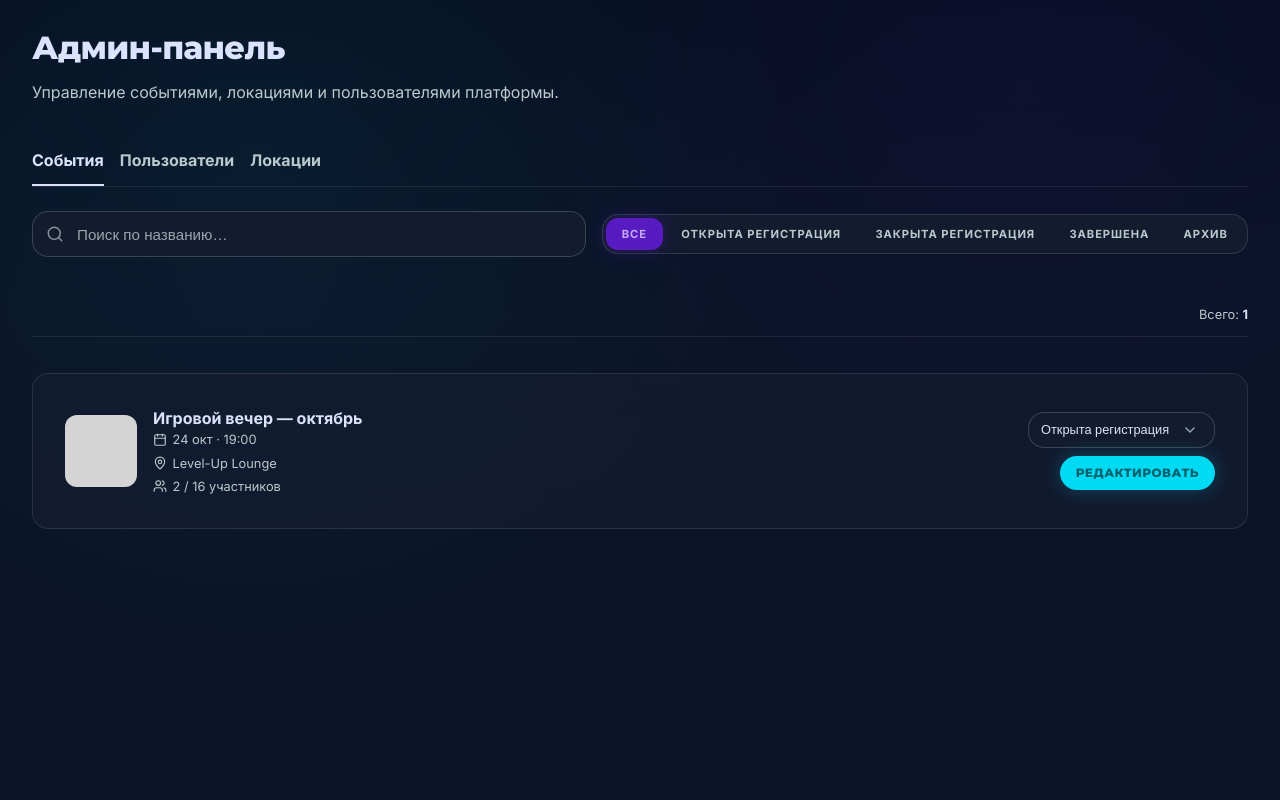
Test: CreateLocationPage › navigates from admin locations tab to create page
Click the tab "Локации".
click(286, 161)  # box 250,136 -> 321,186
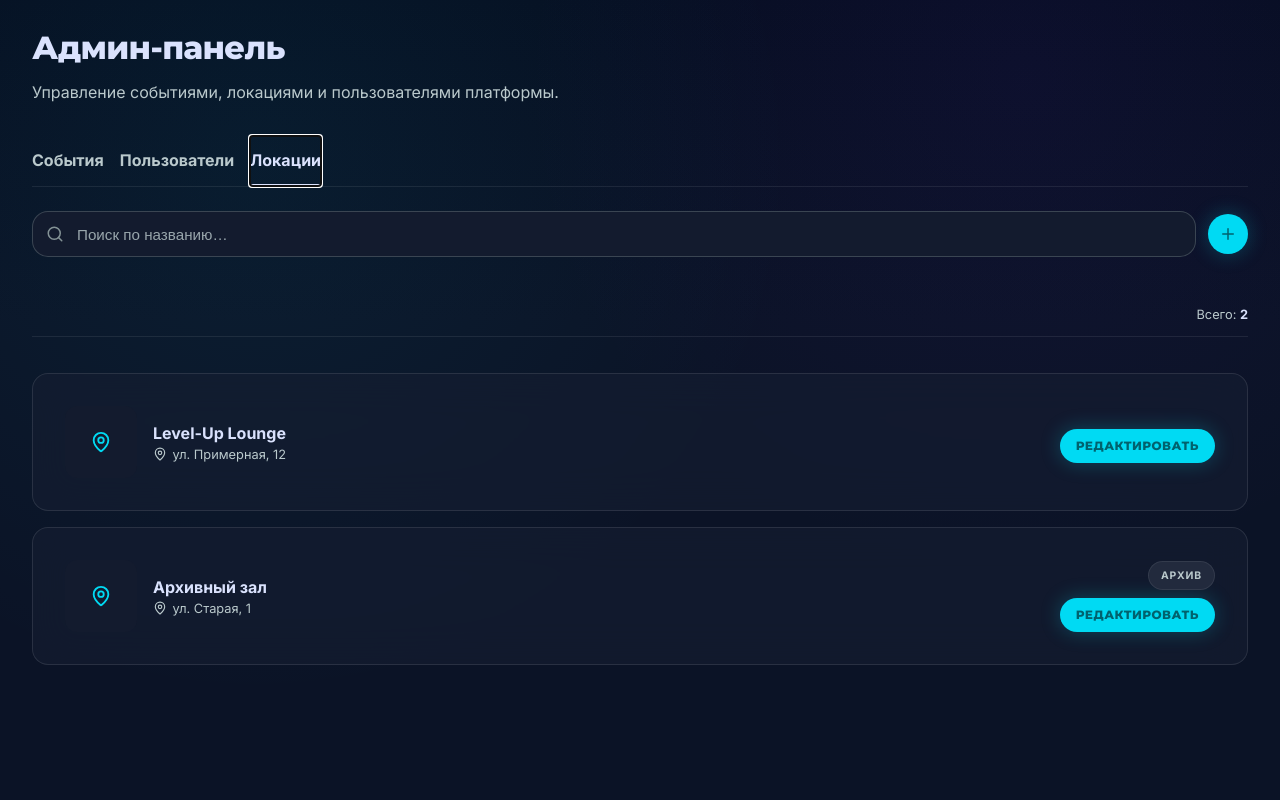
Click the button named "Создать локацию".
click(1228, 234)  # box 1208,214 -> 1248,254
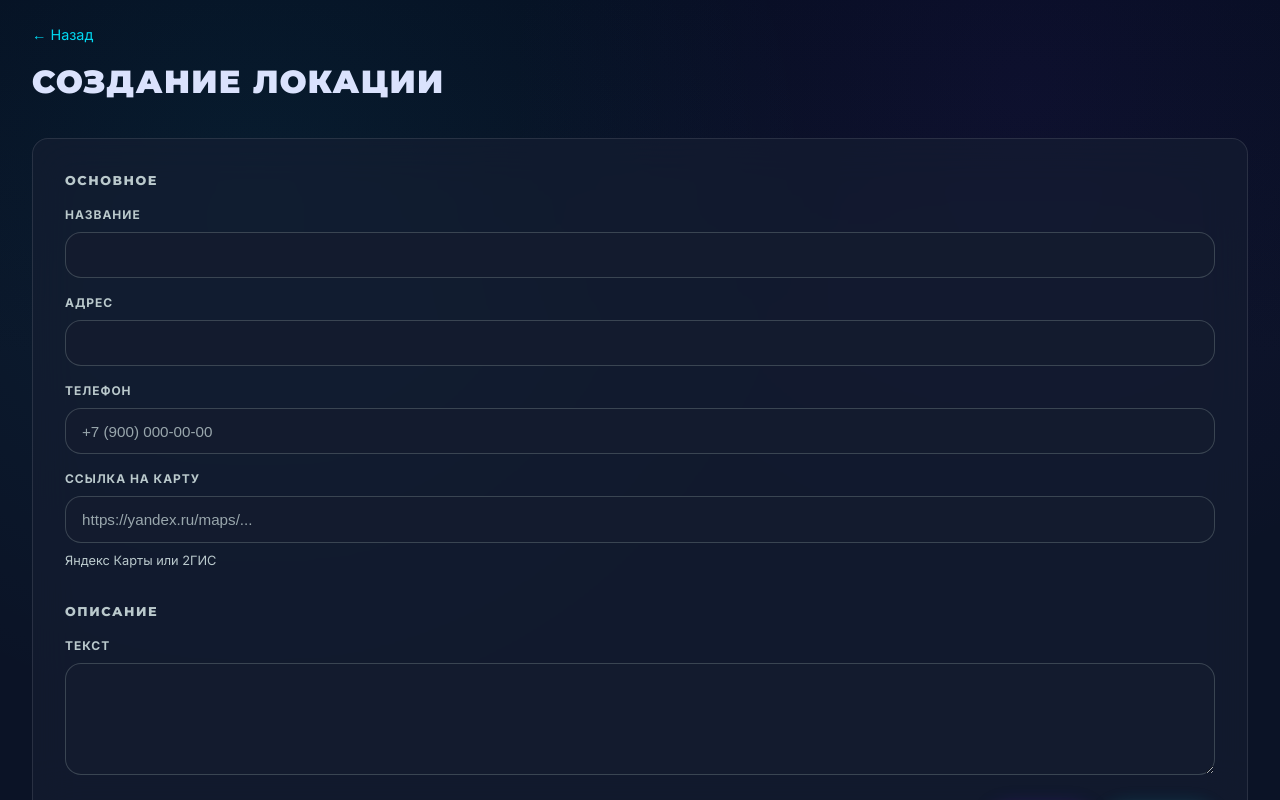
expect the heading "Создание локации" is shown: met, box 32,62 -> 444,101
